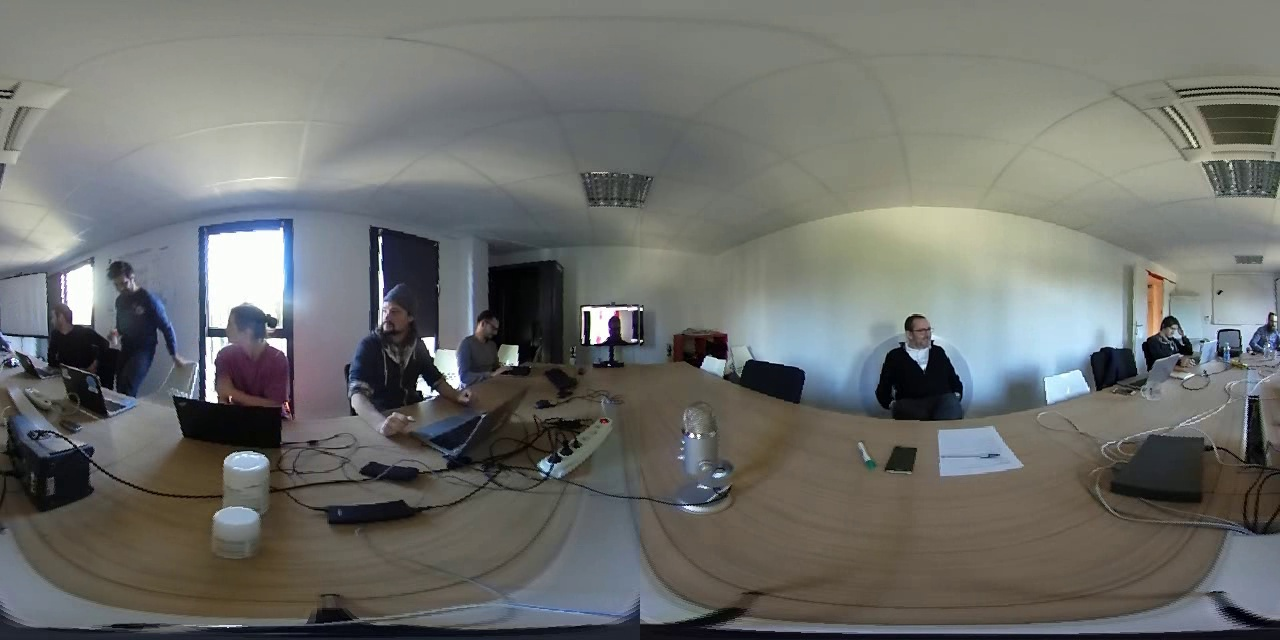person: (332, 271, 437, 426), (872, 306, 963, 429), (96, 251, 173, 380), (205, 294, 281, 410), (451, 300, 517, 386), (35, 291, 96, 374), (1148, 301, 1195, 371), (584, 307, 640, 354), (1243, 307, 1280, 351)
